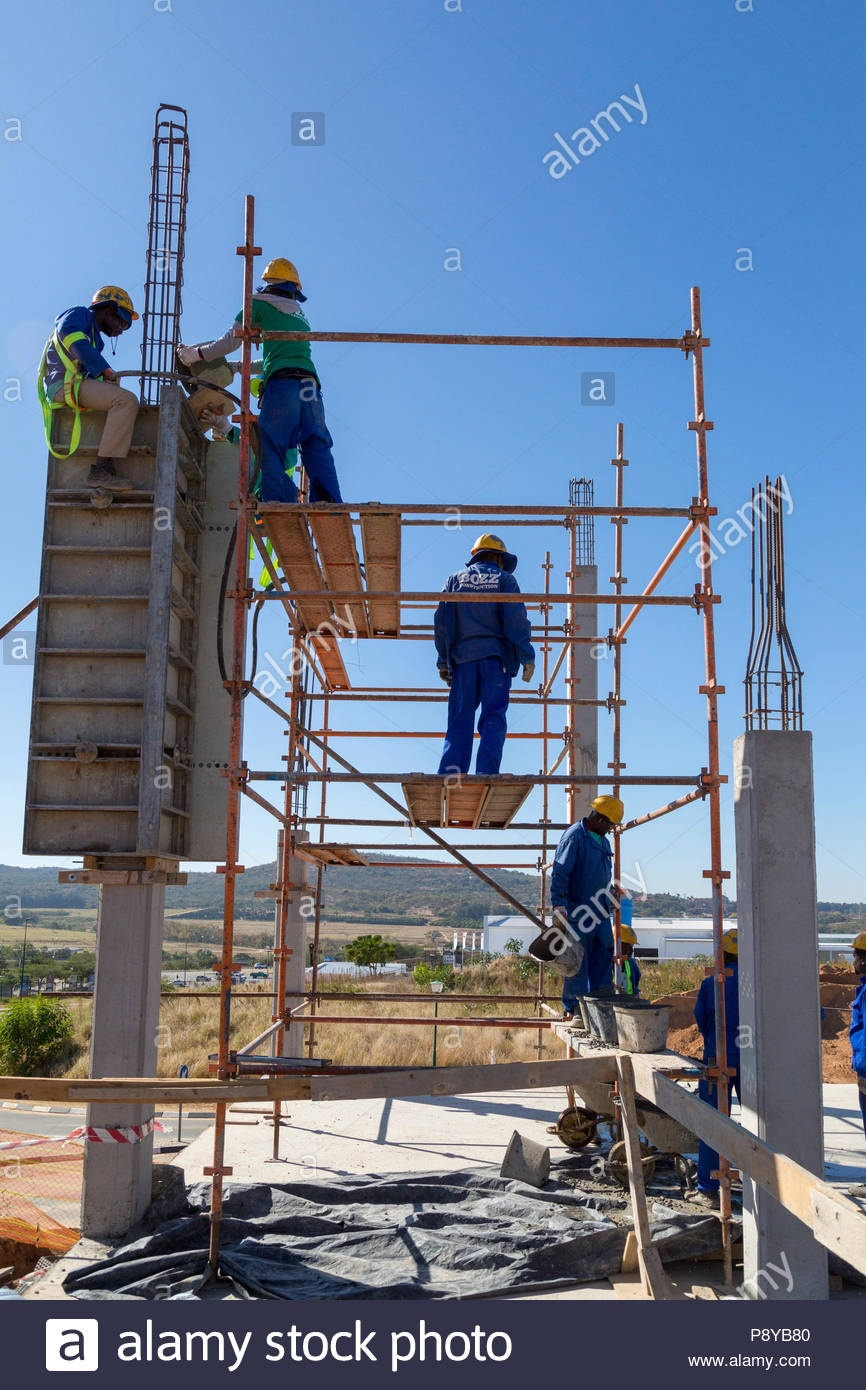yellow: (88, 285, 137, 339), (263, 255, 302, 295), (587, 793, 625, 834), (471, 531, 509, 565), (717, 927, 740, 968), (611, 923, 637, 957), (850, 932, 866, 976)
